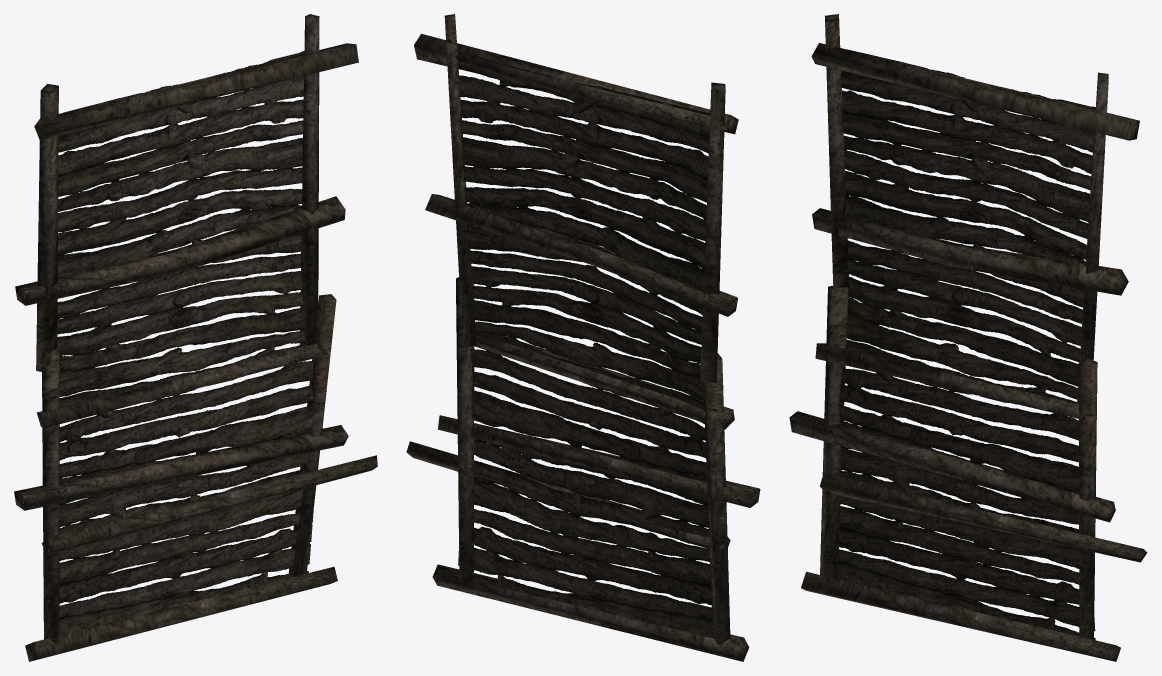
Rendered from MEP_Wall_01.fbx.
3 renders of one model, left to right at view 1: azimuth 30°, elevation 25°; view 2: azimuth 150°, elevation 25°; view 3: azimuth 330°, elevation 25°, orthographic.
Parts seen in each view (by area): view 1: MEP_Wall_01; view 2: MEP_Wall_01; view 3: MEP_Wall_01.
Boxes of the visible parts, <box> form: MEP_Wall_01: <box>14,14,377,661</box>; MEP_Wall_01: <box>406,14,760,661</box>; MEP_Wall_01: <box>789,14,1147,661</box>.
Size of the model in its own units: 3.56 by 5.56 by 0.5052.
